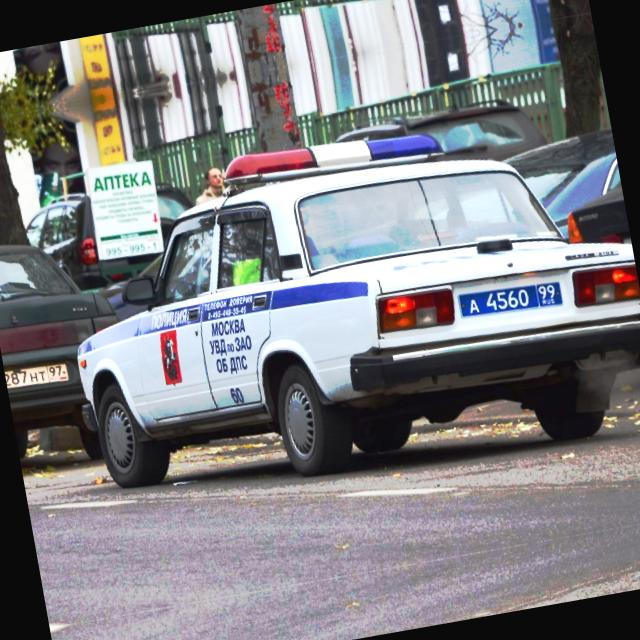police: (458, 273, 566, 326)
